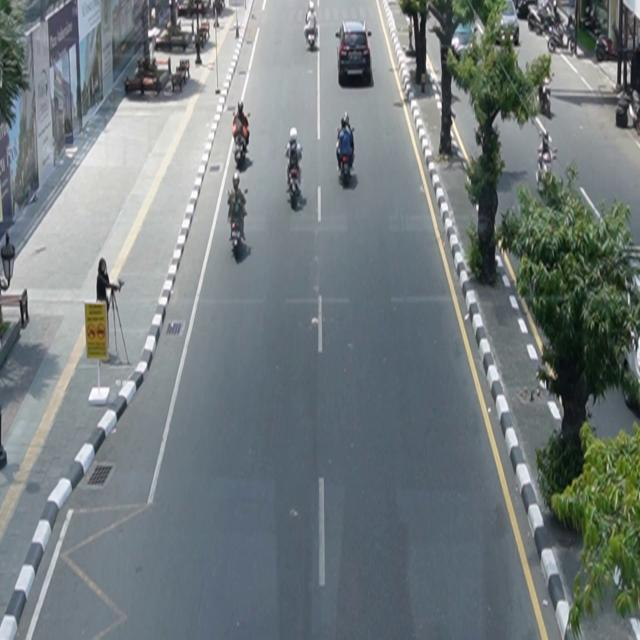car: (336, 20, 373, 86)
